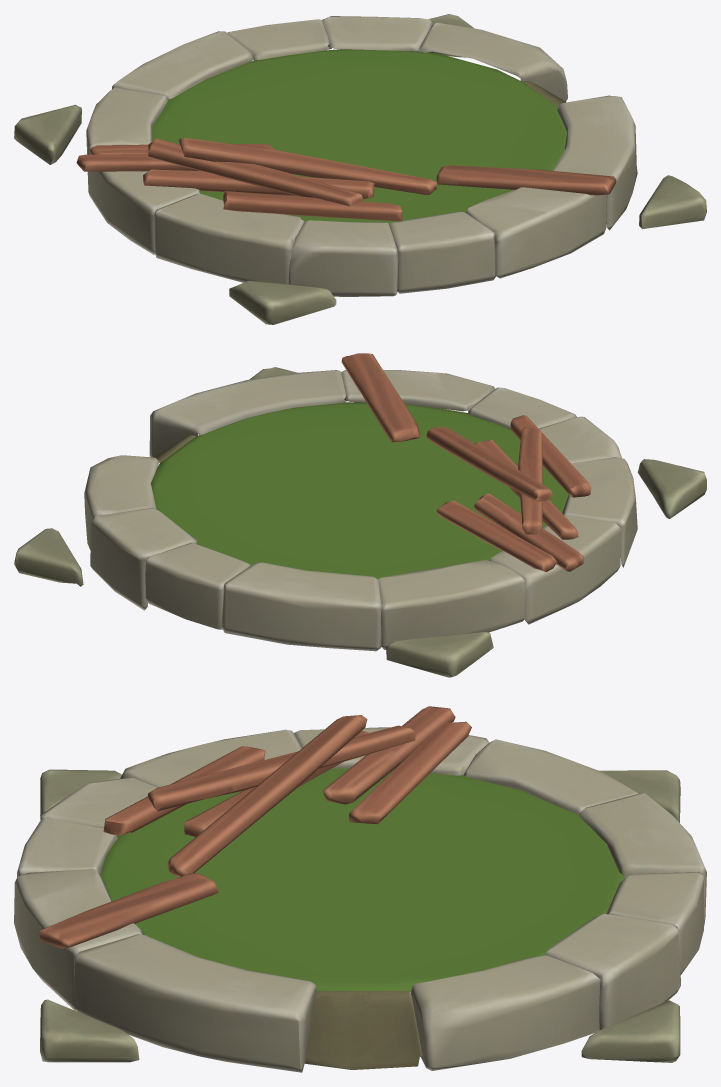
The model's file is SM_Monument_01.glb.
3 renders of one model, top to bottom at view 1: azimuth 30°, elevation 25°; view 2: azimuth 150°, elevation 25°; view 3: azimuth 270°, elevation 25°, orthographic. The views are drawn at different scales.
Visible parts, largest first — view 1: SM_Monument_01; view 2: SM_Monument_01; view 3: SM_Monument_01.
Boxes of the visible parts, x1,y1,x2,y2 form: SM_Monument_01: [14, 14, 706, 324]; SM_Monument_01: [14, 353, 706, 677]; SM_Monument_01: [14, 706, 706, 1072].
Size of the model in its own units: 8.75 by 1.59 by 8.66.
1 material, 1 textured.
